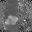people: (5, 15, 18, 25)
